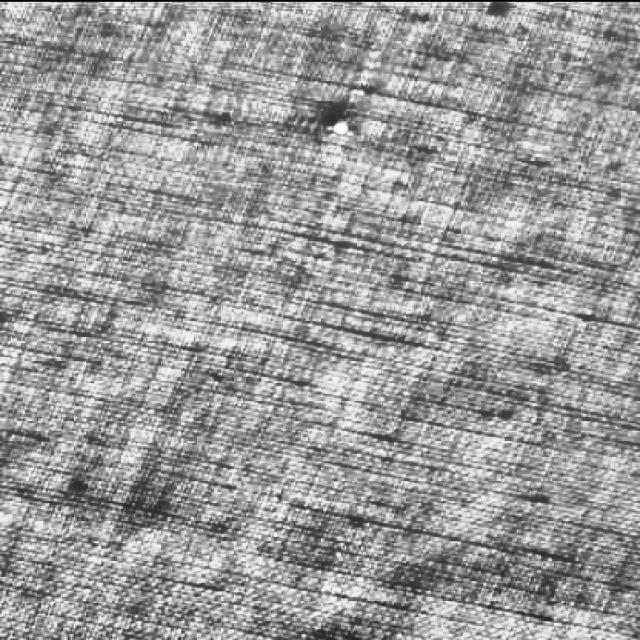hole: (325, 109, 354, 143)
